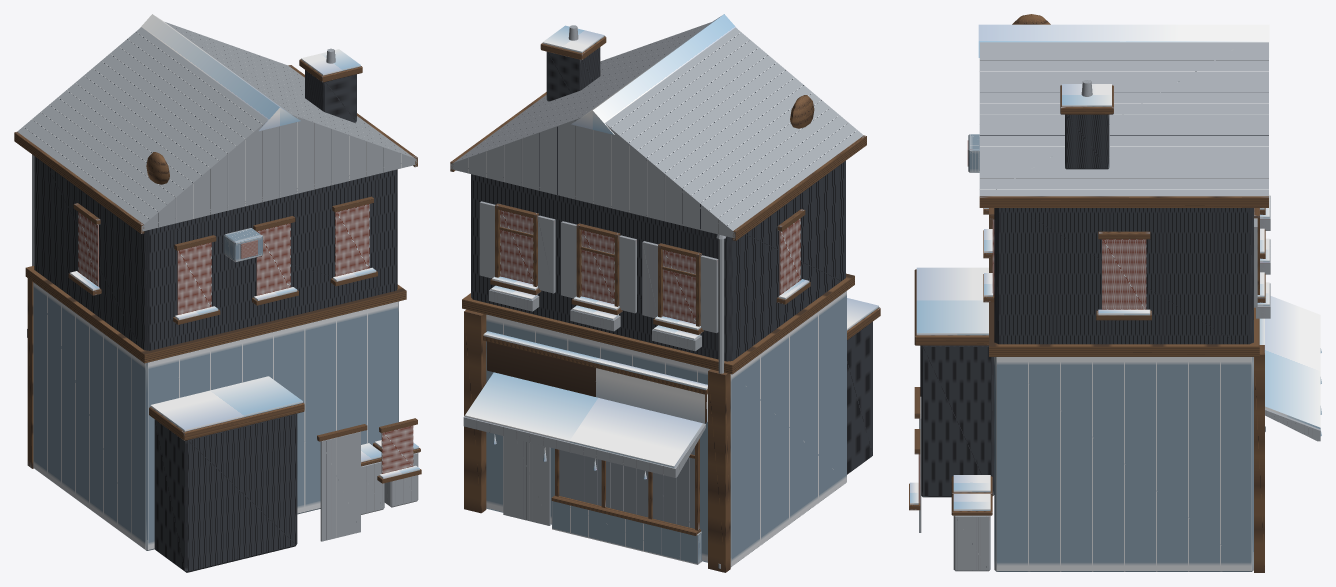
File: ck_shop_bakery.fbx
The picture shows the model from 3 angles, left to right: view 1: azimuth 30°, elevation 25°; view 2: azimuth 150°, elevation 25°; view 3: azimuth 270°, elevation 25°; orthographic projection. The views are drawn at different scales.
Parts seen in each view (by area): view 1: ck_shop_bakery; view 2: ck_shop_bakery; view 3: ck_shop_bakery.
Part boxes in pixels (bbox=[...]): ck_shop_bakery: bbox=[14, 14, 421, 572]; ck_shop_bakery: bbox=[450, 14, 880, 572]; ck_shop_bakery: bbox=[909, 14, 1321, 572].
Bounding box in the file's own units: 1729 × 2500 × 1958.
